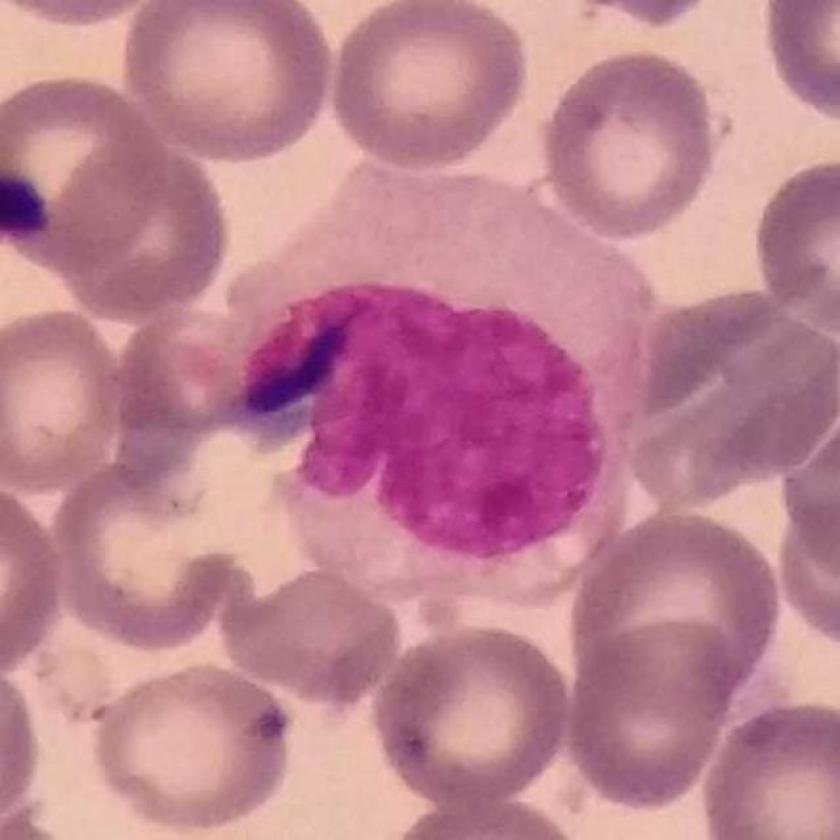monocyte: (228, 155, 661, 609)
